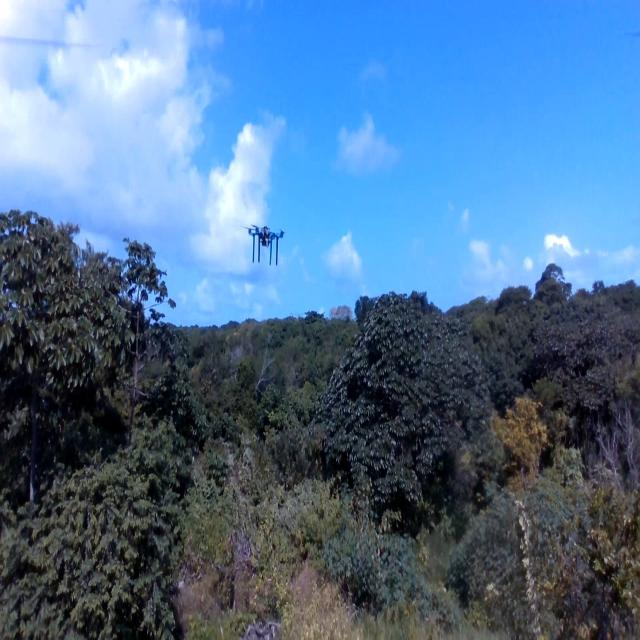-uav-: (236, 209, 290, 271)
